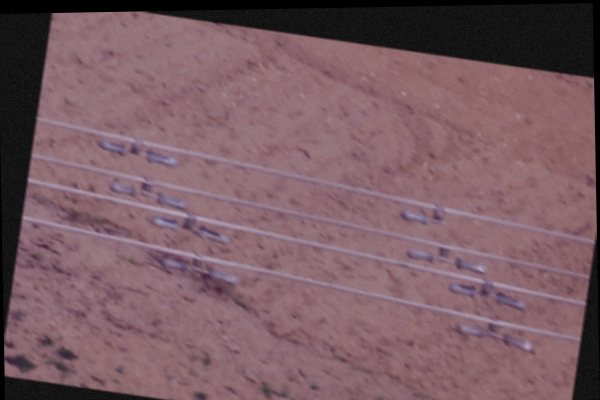damper: (106, 174, 189, 212), (94, 132, 180, 166), (454, 316, 534, 351), (159, 251, 239, 286), (445, 277, 526, 311), (404, 242, 489, 273), (150, 212, 231, 244)
damper_defect: (399, 202, 449, 228)
